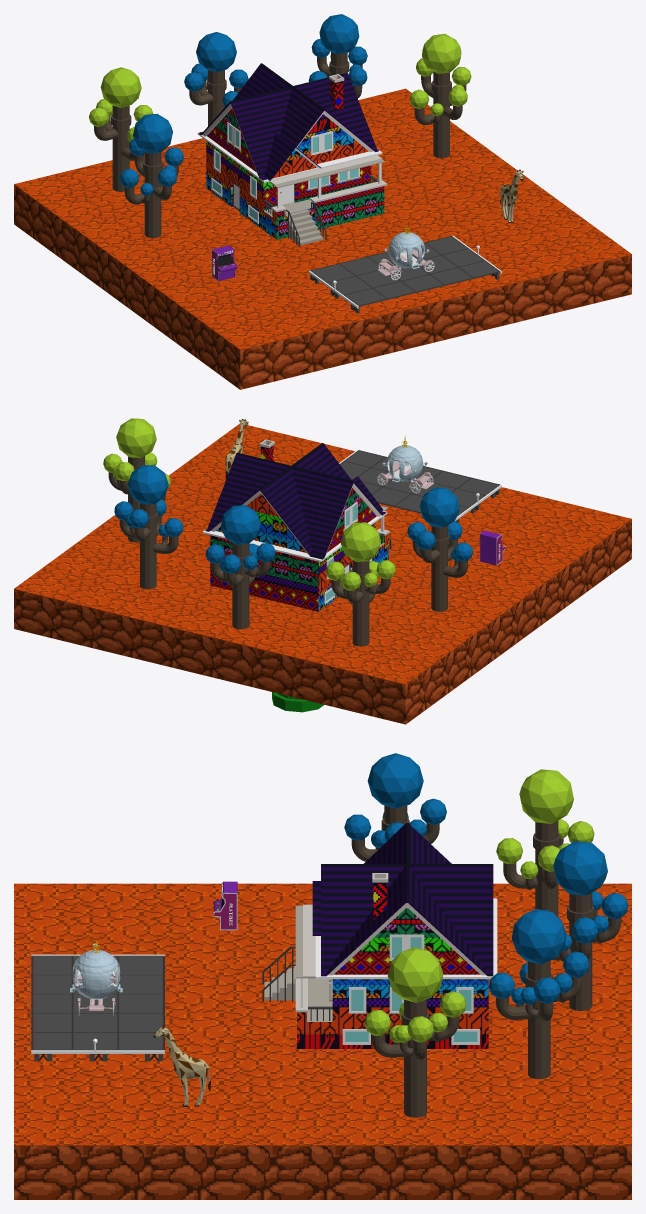
The picture shows the model from 3 angles, top to bottom: view 1: azimuth 30°, elevation 25°; view 2: azimuth 150°, elevation 25°; view 3: azimuth 270°, elevation 25°; orthographic projection. The views are drawn at different scales.
Visible parts, largest first — view 1: Cube.001, Cube.966, VEHICLES_FANTASY_CARRIAGE, OBJRANDOM_ARCADE, ANIMAL_JIRAFA; view 2: Cube.001, Cube.966, VEHICLES_FANTASY_CARRIAGE, OBJRANDOM_ARCADE, UNDERGROUND_PIPES, ANIMAL_JIRAFA; view 3: Cube.001, Cube.966, VEHICLES_FANTASY_CARRIAGE, ANIMAL_JIRAFA, OBJRANDOM_ARCADE.
Part boxes in pixels (x1,y1,x2,y2): Cube.001: (14,14,631,389); Cube.966: (197,63,387,246); VEHICLES_FANTASY_CARRIAGE: (377,223,434,280); OBJRANDOM_ARCADE: (211,245,237,281); ANIMAL_JIRAFA: (500,169,523,222); Cube.001: (14,418,631,724); Cube.966: (202,439,391,611); VEHICLES_FANTASY_CARRIAGE: (377,436,433,493); OBJRANDOM_ARCADE: (480,530,505,565); UNDERGROUND_PIPES: (272,692,324,712); ANIMAL_JIRAFA: (225,419,248,478); Cube.001: (14,753,631,1199); Cube.966: (262,823,497,1048); VEHICLES_FANTASY_CARRIAGE: (70,939,122,1015); ANIMAL_JIRAFA: (153,1025,210,1106); OBJRANDOM_ARCADE: (213,881,237,930).
Bounding box in the file's own units: 4000 × 2247 × 4000.
Materials: 42 (8 with a texture image).
